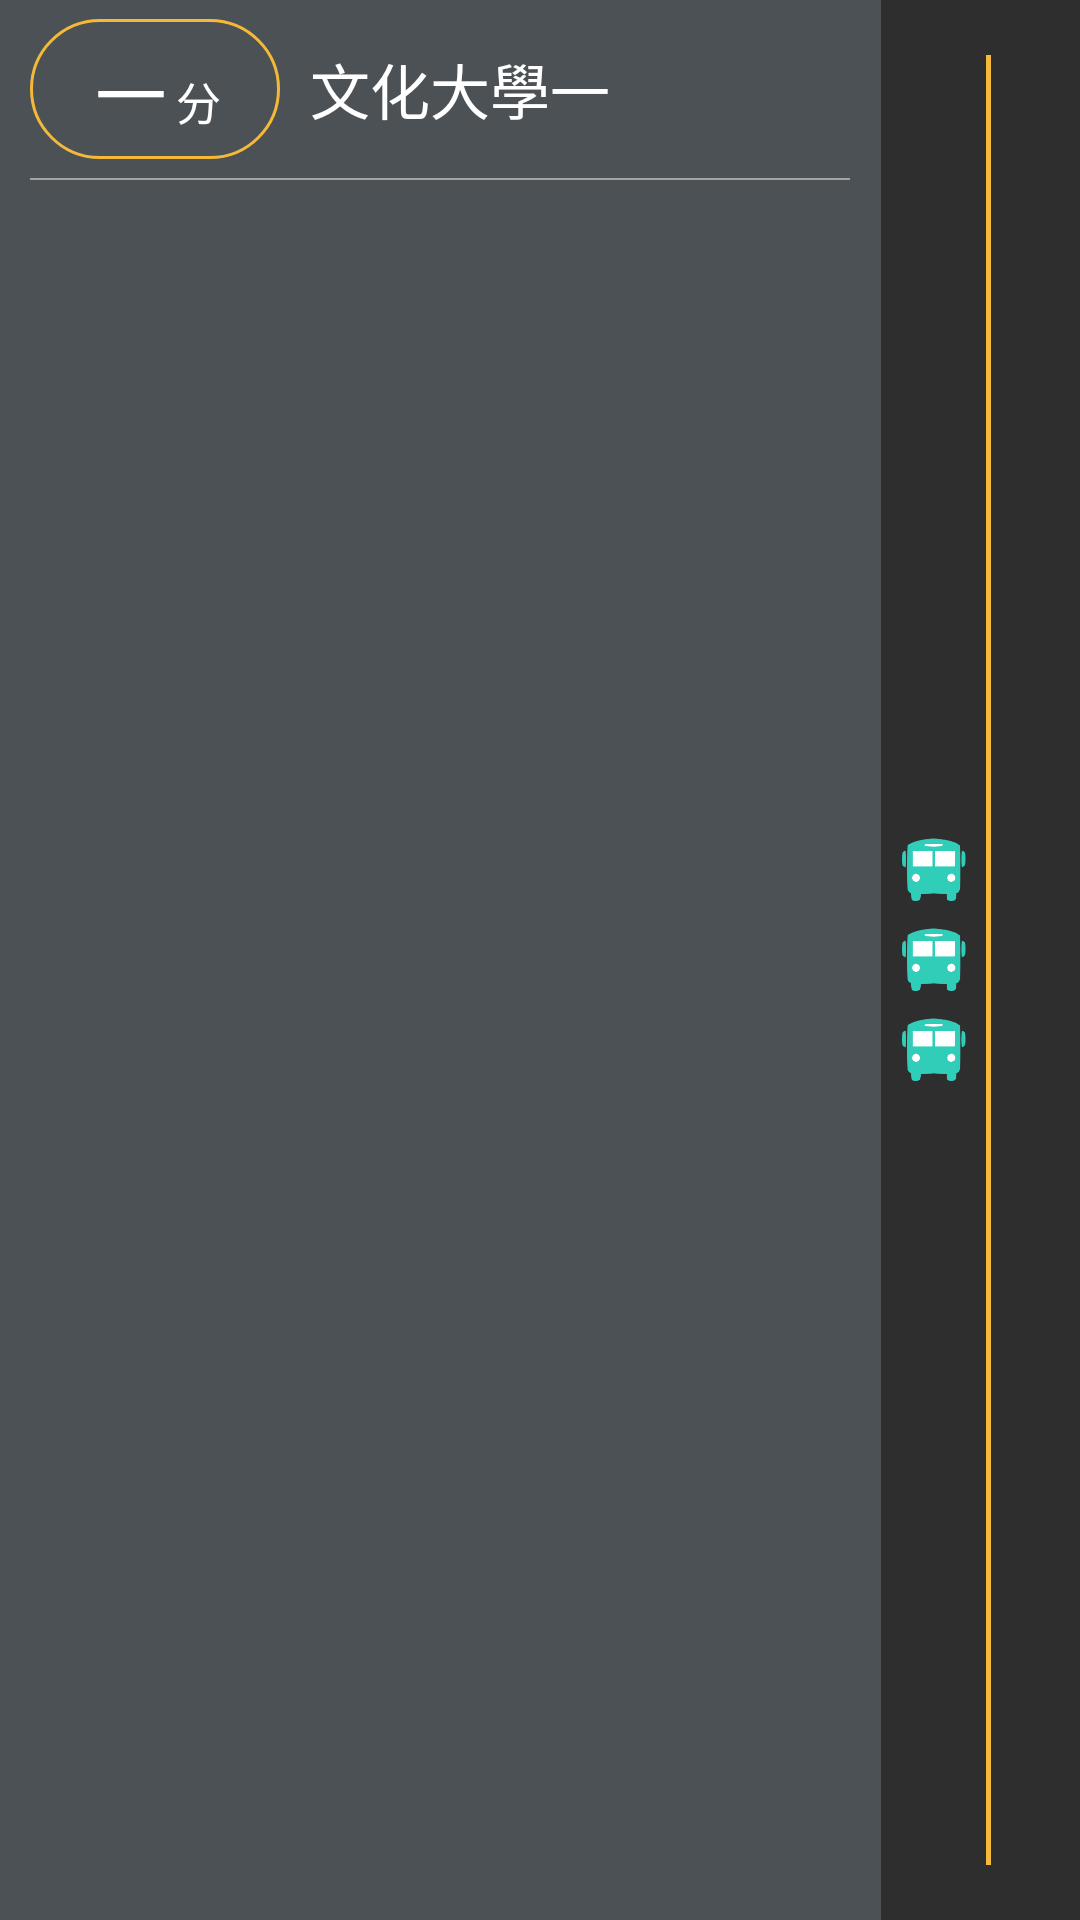

Named icons in this screenshot (1080 x 1920) and their bounding boxes, [x1=x1, y1=y1, x2=x2, y2=y2]:
bus: [x1=902, y1=838, x2=966, y2=901], [x1=902, y1=928, x2=966, y2=991], [x1=902, y1=1018, x2=966, y2=1081]
